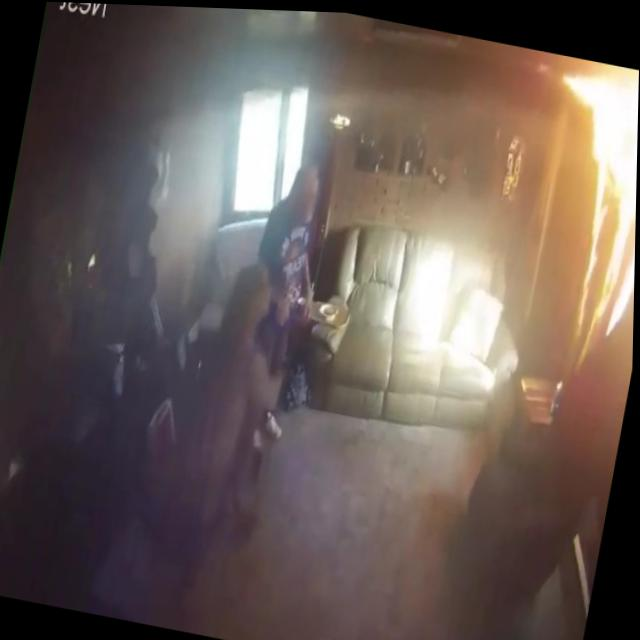fire: (518, 51, 639, 349)
